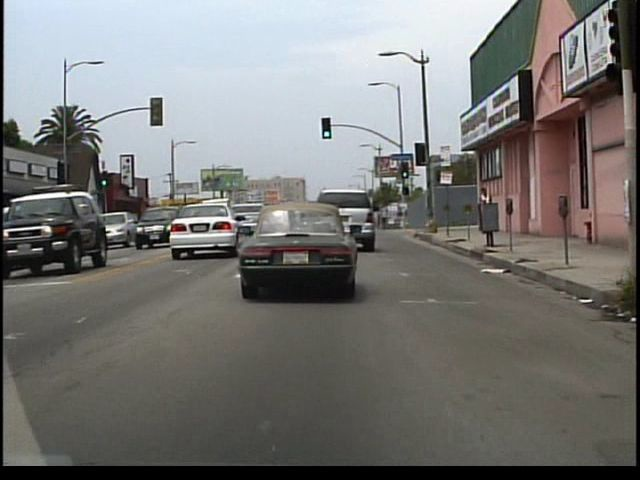person: (475, 183, 495, 234)
